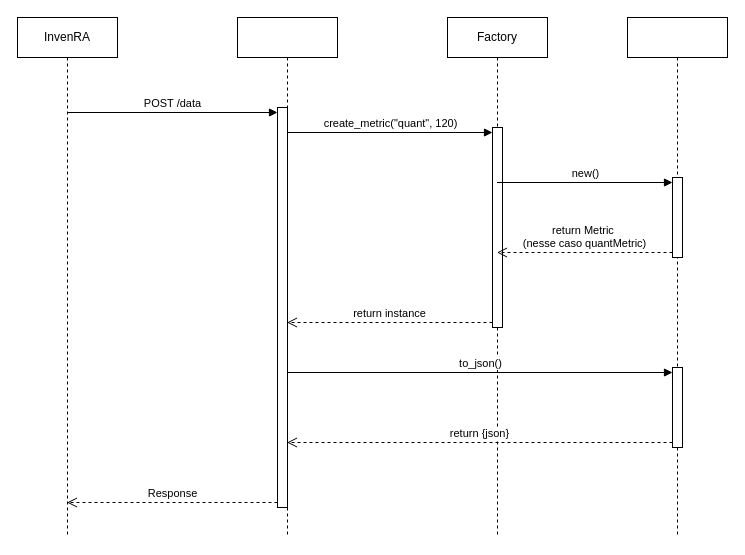
The diagram is 745 pixels wide and 555 high, and some of its shapes have lost their labels. The shapes that lost their labels are listed below. From the top down, each one's box as (x1, y1, x2, y2) in pixels, then its label:
(236, 16, 338, 538): Controller
(626, 16, 728, 538): QuantMetric
